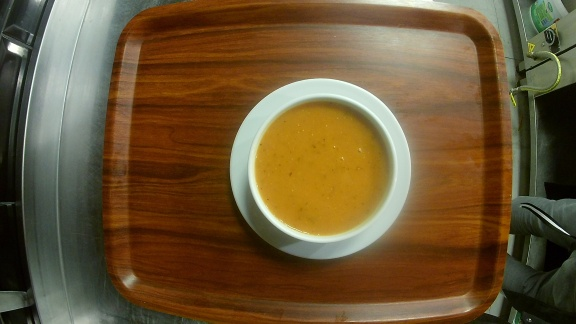ezogelin: (229, 77, 414, 261)
